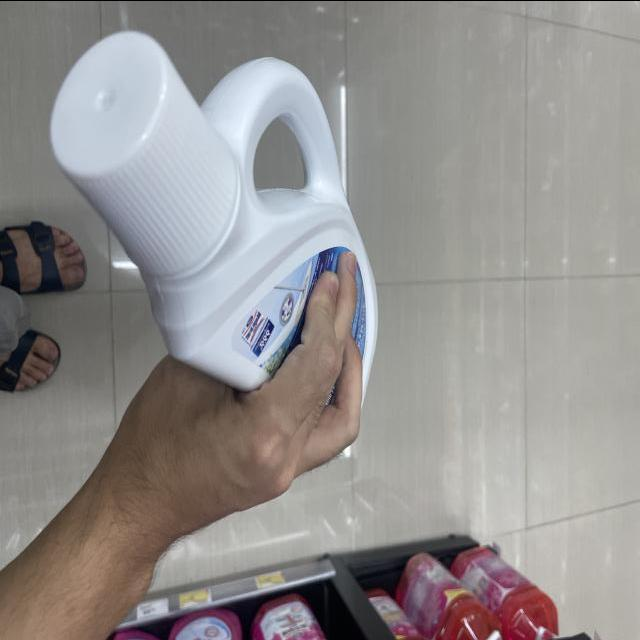HDPE Plastic: (42, 39, 384, 417)
